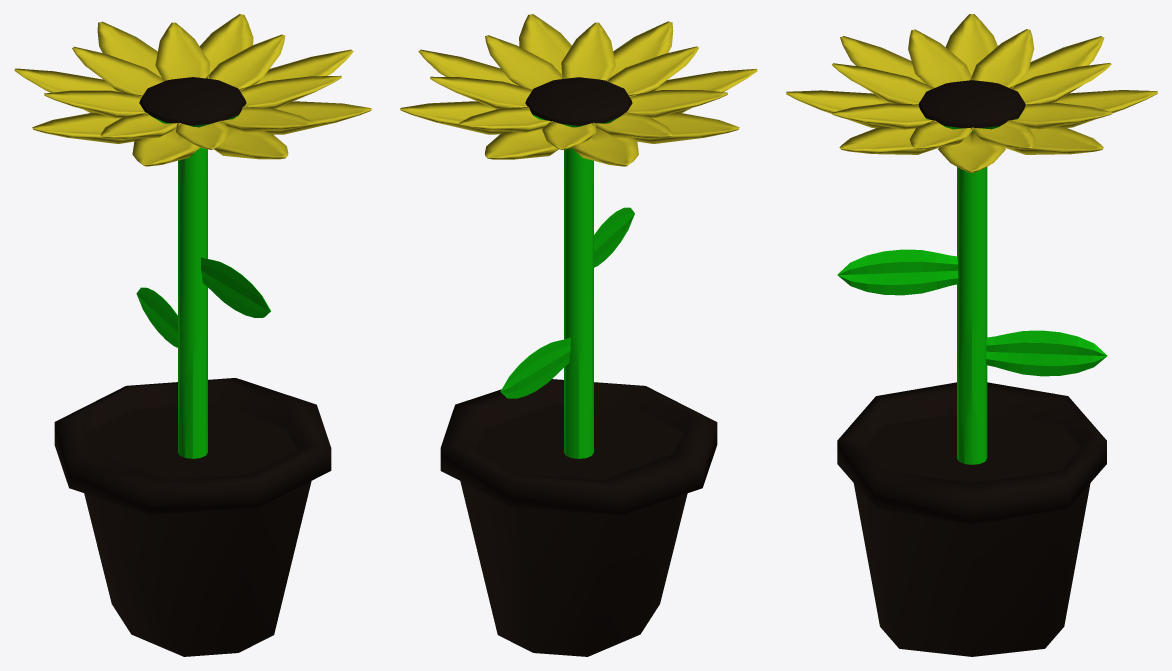
File: SonenBlumne.obj
3 views of the same model, side by side, from view 1: azimuth 30°, elevation 25°; view 2: azimuth 150°, elevation 25°; view 3: azimuth 270°, elevation 25° (orthographic).
Visible parts, largest first — view 1: Topf, Zylinder, Würfel.001, Blatt.012, Blatt.013, Blatt.011, Blatt.014, Blatt.010, Blatt.003, Blatt.004, Blatt.001, Blatt.007 (+8 smaller); view 2: Topf, Zylinder, Würfel, Blatt.015, Blatt.014, Blatt.016, Blatt.013, Blatt.009, Blatt.006, Blatt.007, Blatt.001, Blatt.003 (+8 smaller); view 3: Topf, Zylinder, Würfel, Würfel.001, Blatt.010, Blatt.009, Blatt.016, Blatt.011, Blatt.015, Blatt.012, Blatt.001, Blatt.006 (+8 smaller).
Boxes of the visible parts, <box> form: Topf: <box>54,378,331,656</box>; Zylinder: <box>139,77,246,458</box>; Würfel.001: <box>200,257,270,317</box>; Blatt.012: <box>155,22,209,81</box>; Blatt.013: <box>206,34,285,90</box>; Blatt.011: <box>72,46,165,96</box>; Blatt.014: <box>239,75,341,108</box>; Blatt.010: <box>44,90,147,118</box>; Blatt.003: <box>97,21,161,77</box>; Blatt.004: <box>199,14,253,73</box>; Blatt.001: <box>32,113,137,143</box>; Blatt.007: <box>214,128,288,159</box>; Topf: <box>440,379,717,656</box>; Zylinder: <box>525,77,632,458</box>; Würfel: <box>500,337,570,398</box>; Blatt.015: <box>561,22,615,81</box>; Blatt.014: <box>485,35,564,91</box>; Blatt.016: <box>606,46,698,96</box>; Blatt.013: <box>430,76,532,109</box>; Blatt.009: <box>624,90,727,117</box>; Blatt.006: <box>519,14,571,74</box>; Blatt.007: <box>609,21,673,77</box>; Blatt.001: <box>633,113,739,143</box>; Blatt.003: <box>485,129,558,159</box>; Topf: <box>837,382,1106,656</box>; Zylinder: <box>918,80,1025,464</box>; Würfel: <box>985,330,1107,376</box>; Würfel.001: <box>837,249,958,295</box>; Blatt.010: <box>970,29,1034,88</box>; Blatt.009: <box>908,29,972,88</box>; Blatt.016: <box>832,63,934,105</box>; Blatt.011: <box>1009,63,1111,105</box>; Blatt.015: <box>832,103,936,129</box>; Blatt.012: <box>1008,102,1112,129</box>; Blatt.001: <box>945,14,997,76</box>; Blatt.006: <box>839,126,937,154</box>.
Size of the model in its own units: 4.18 by 6.68 by 4.18.
